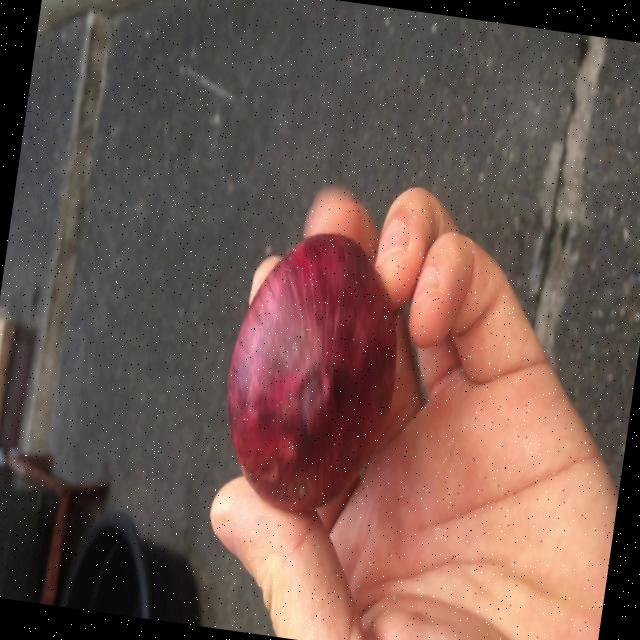Onion: (228, 234, 397, 512)
